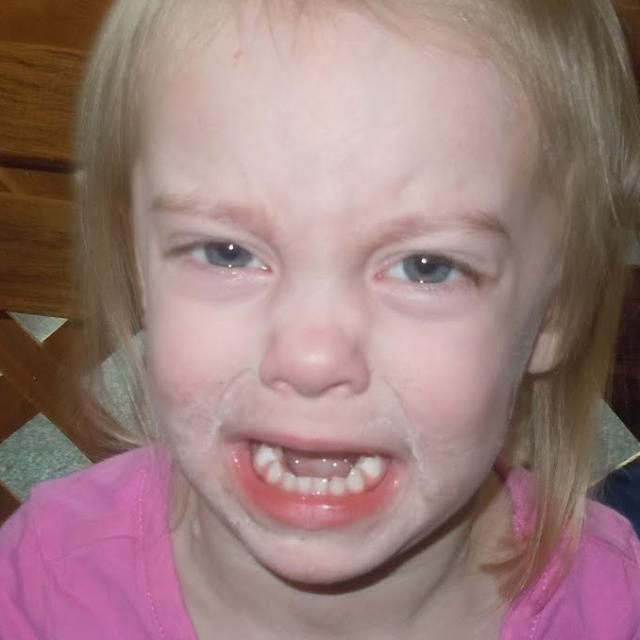Depress: (134, 16, 568, 587)
